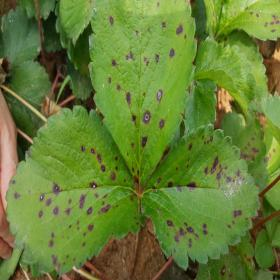Leaf Spot: (5, 104, 146, 279), (88, 0, 198, 193), (140, 123, 261, 271), (220, 111, 279, 194), (216, 30, 270, 105), (214, 0, 279, 42), (181, 79, 218, 137), (59, 0, 94, 48), (230, 231, 260, 279), (194, 252, 246, 279), (190, 0, 219, 42)
